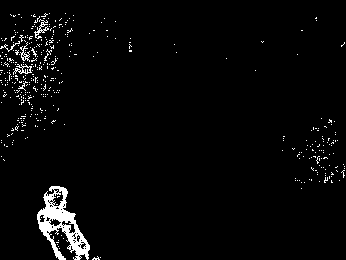person: (35, 184, 103, 260)
